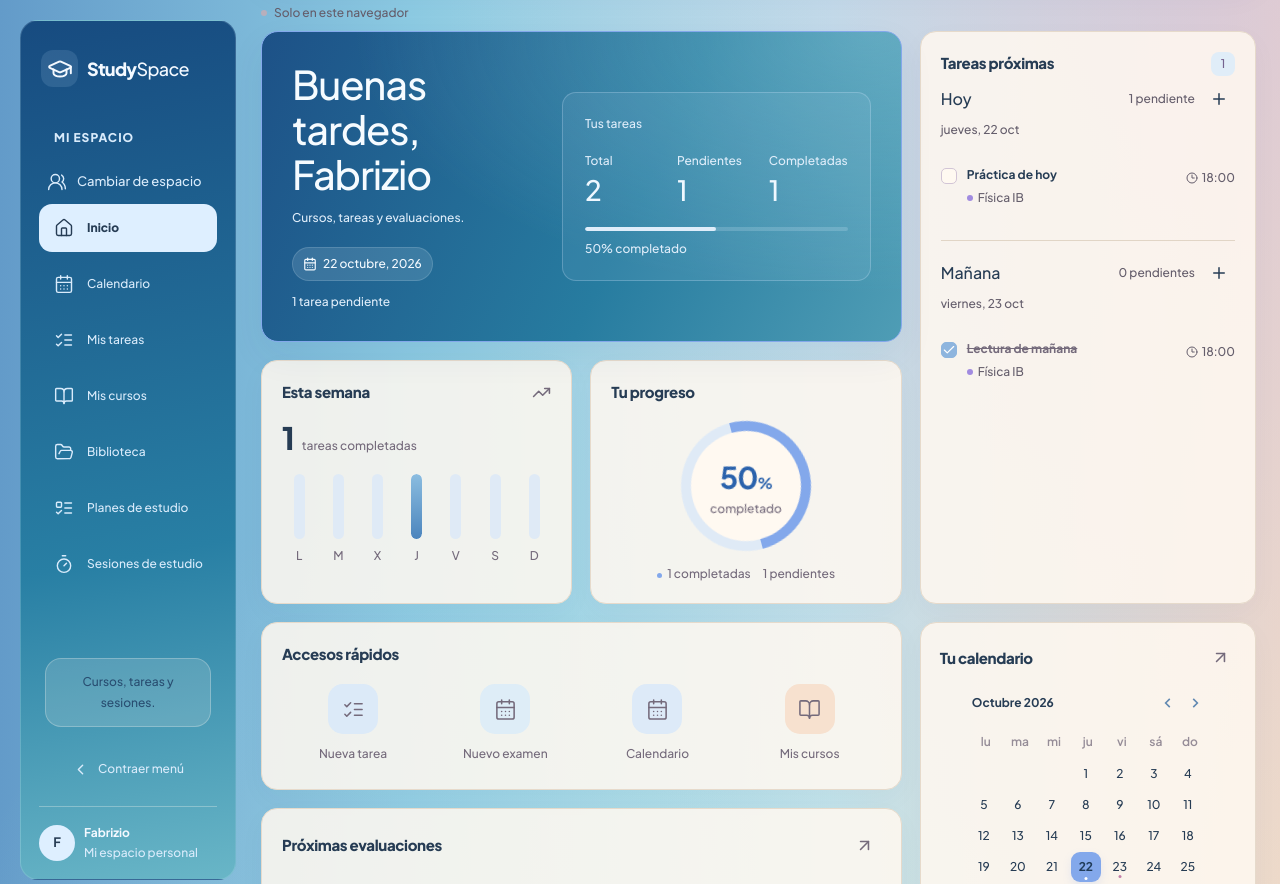
Test case: agrupa tareas reales por hoy y mañana y añade con la fecha del grupo
(page scrolled)
Expected: the text "1 pendiente" is shown, 1129,90 -> 1195,108
Expected: the text "0 pendientes" is shown, 1119,264 -> 1195,282
Click the button named "Añadir tarea para mañana" at [1219, 273], box 1203,257 -> 1235,289
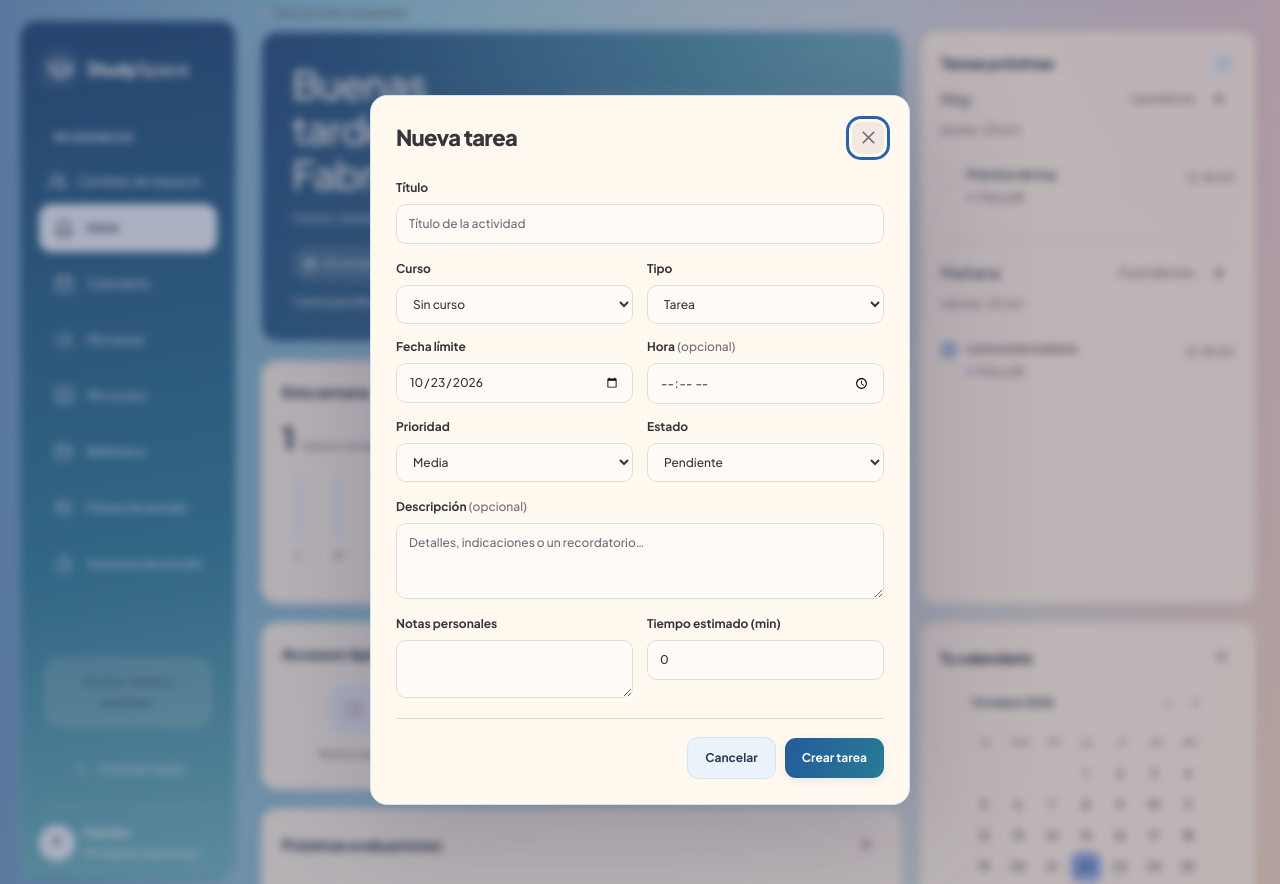
Type "Entrega de mañana" into the field labelled "Título" at [640, 224], box 396,204 -> 884,244
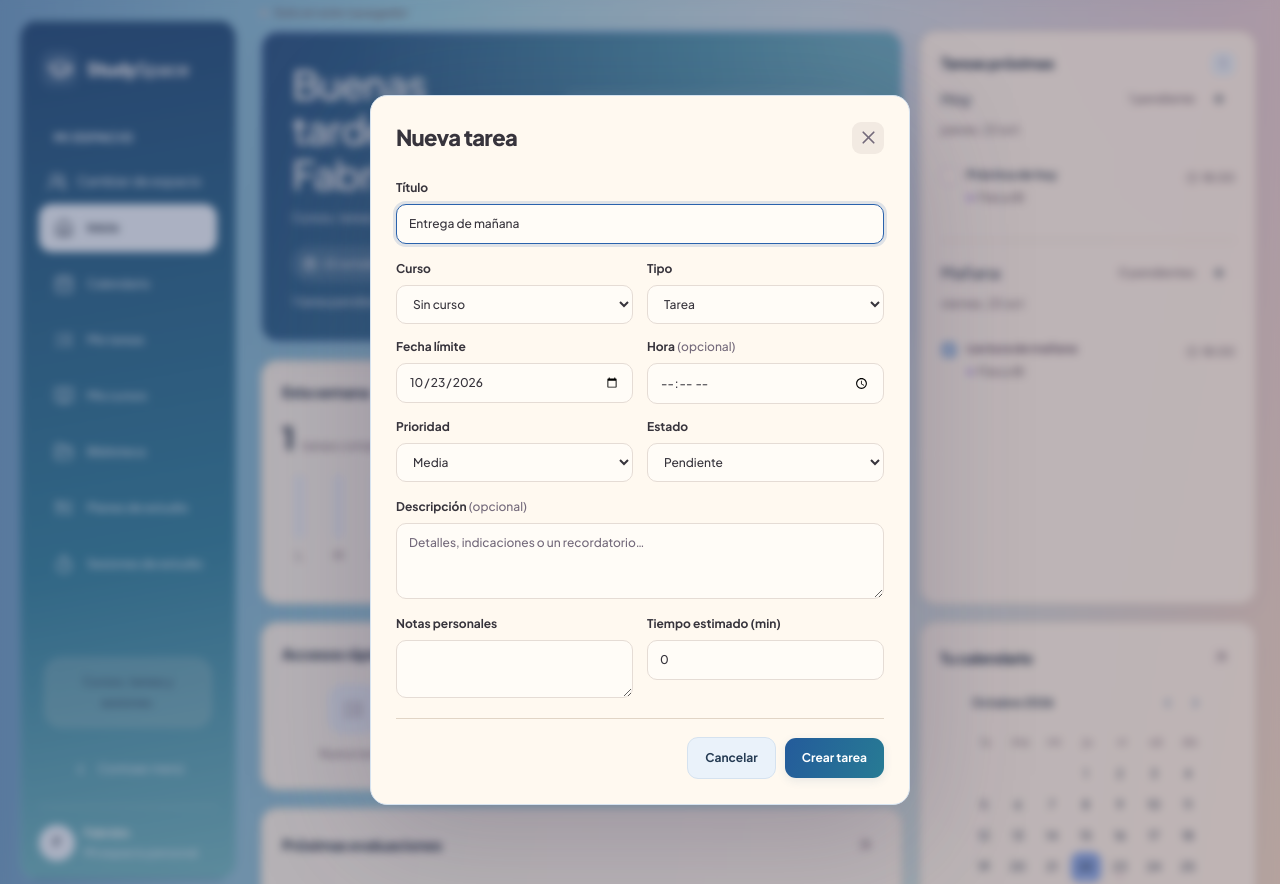
Click the button "Crear tarea" at [834, 758], box 785,738 -> 884,778
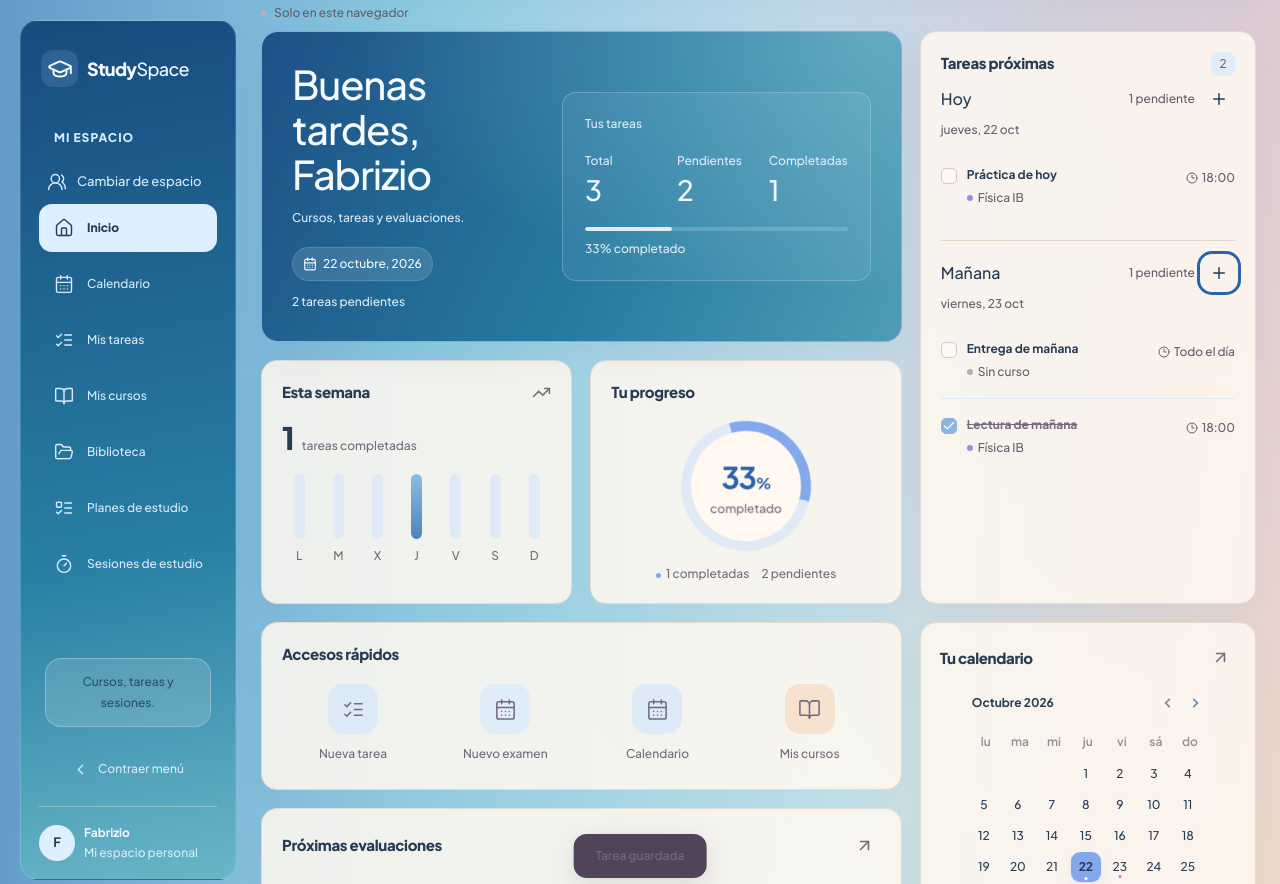
Expected: the 2nd text "1 pendiente" is shown, 1129,264 -> 1195,282
